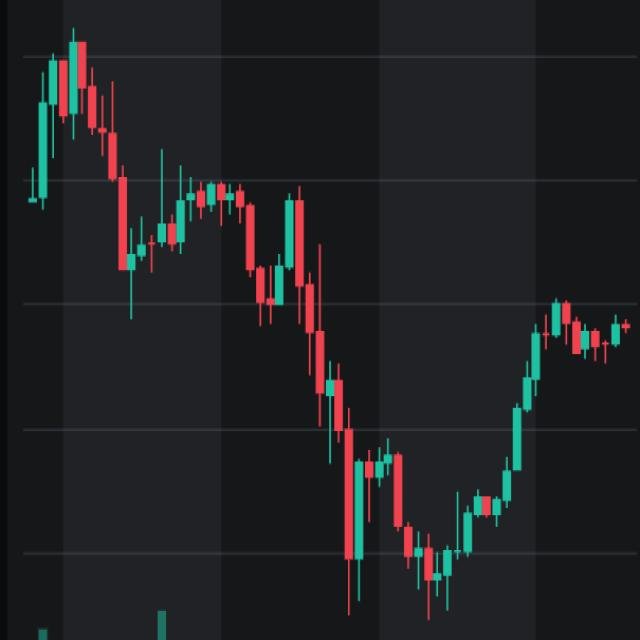Inverse-Head-Shoulders: (292, 258, 565, 616)
